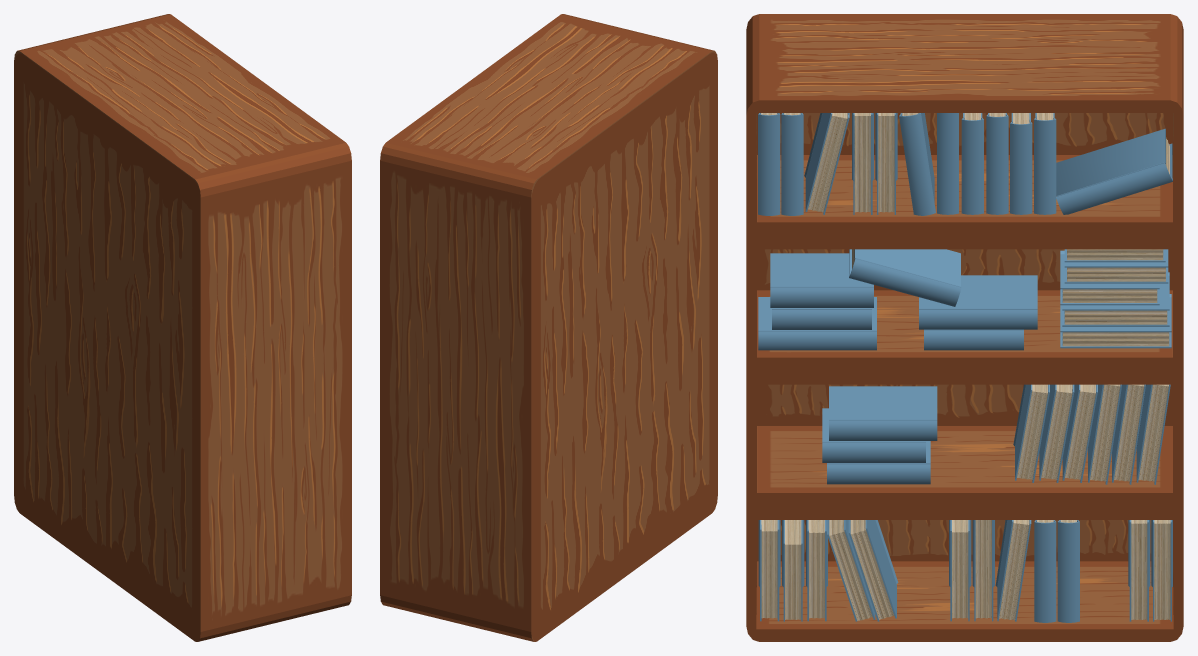
The model's file is BookShelf w_ Books v.2.fbx.
The picture shows the model from 3 angles, left to right: view 1: azimuth 30°, elevation 25°; view 2: azimuth 150°, elevation 25°; view 3: azimuth 270°, elevation 25°; orthographic projection. The views are drawn at different scales.
Visible parts, largest first — view 1: Shelf_1; view 2: Shelf_1; view 3: Shelf_1, Cube.027.
Boxes of the visible parts, <box> form: Shelf_1: <box>14,14,351,641</box>; Shelf_1: <box>380,14,717,641</box>; Shelf_1: <box>746,14,1183,641</box>; Cube.027: <box>758,113,1172,622</box>.
Size of the model in its own units: 57.87 by 169 by 124.
